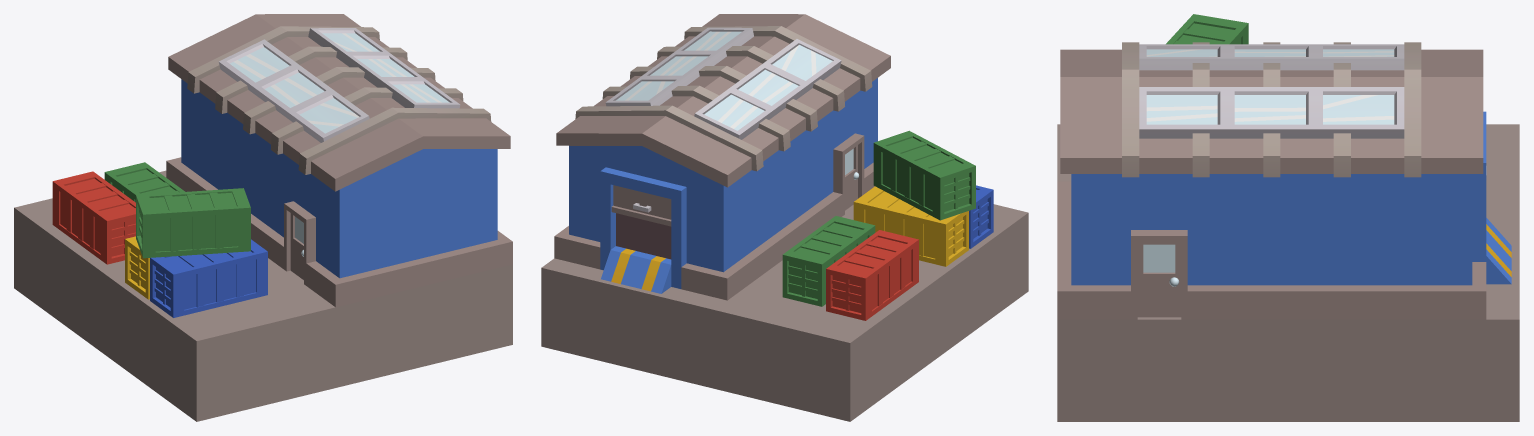
The model's file is Blue_Warehouse.fbx.
The picture shows the model from 3 angles, left to right: view 1: azimuth 30°, elevation 25°; view 2: azimuth 150°, elevation 25°; view 3: azimuth 270°, elevation 25°; orthographic projection. The views are drawn at different scales.
Visible parts, largest first — view 1: Blue_Warehouse; view 2: Blue_Warehouse; view 3: Blue_Warehouse.
Part boxes in pixels (left/top/right/bottom): Blue_Warehouse: left=14, top=14, right=512, bottom=421; Blue_Warehouse: left=541, top=14, right=1028, bottom=421; Blue_Warehouse: left=1057, top=14, right=1519, bottom=421.
Bounding box in the file's own units: 406 × 284 × 400.
